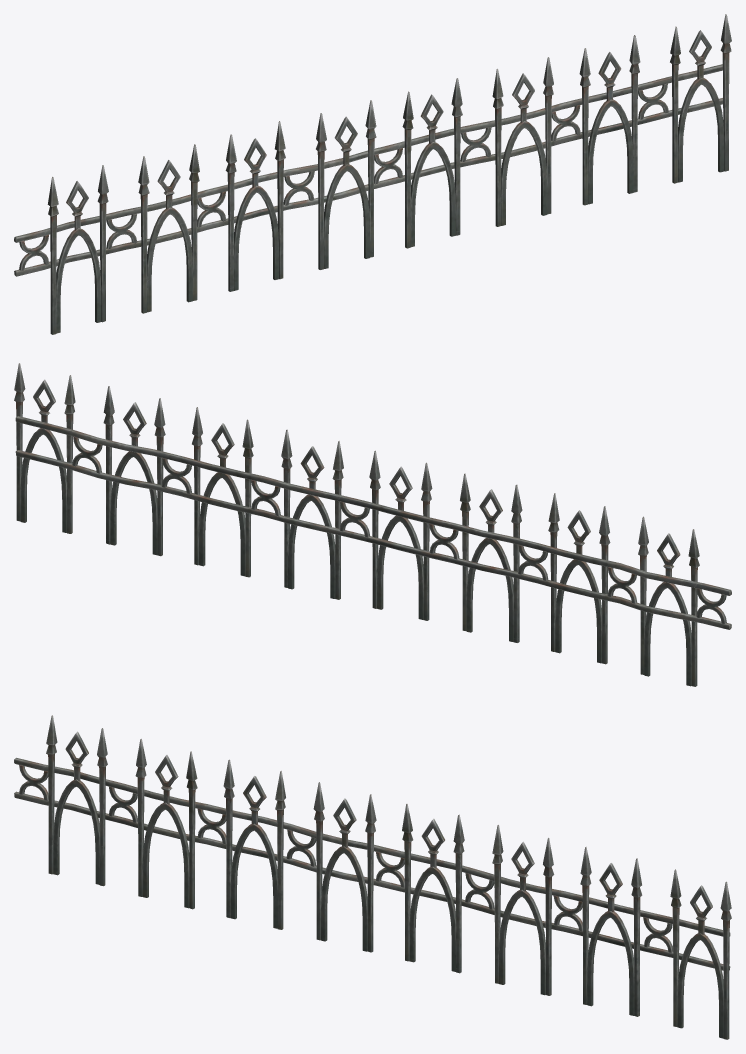
The picture shows the model from 3 angles, top to bottom: view 1: azimuth 30°, elevation 25°; view 2: azimuth 150°, elevation 25°; view 3: azimuth 330°, elevation 25°; orthographic projection.
Parts seen in each view (by area): view 1: SM_Iron_Fence_01v2_8x8_LOD0; view 2: SM_Iron_Fence_01v2_8x8_LOD0; view 3: SM_Iron_Fence_01v2_8x8_LOD0.
Part boxes in pixels (<box>): SM_Iron_Fence_01v2_8x8_LOD0: <box>14,14,731,334</box>; SM_Iron_Fence_01v2_8x8_LOD0: <box>14,363,731,686</box>; SM_Iron_Fence_01v2_8x8_LOD0: <box>14,715,731,1039</box>.
Size of the model in its own units: 8.05 by 1.69 by 0.1293.
1 material, 1 textured.
